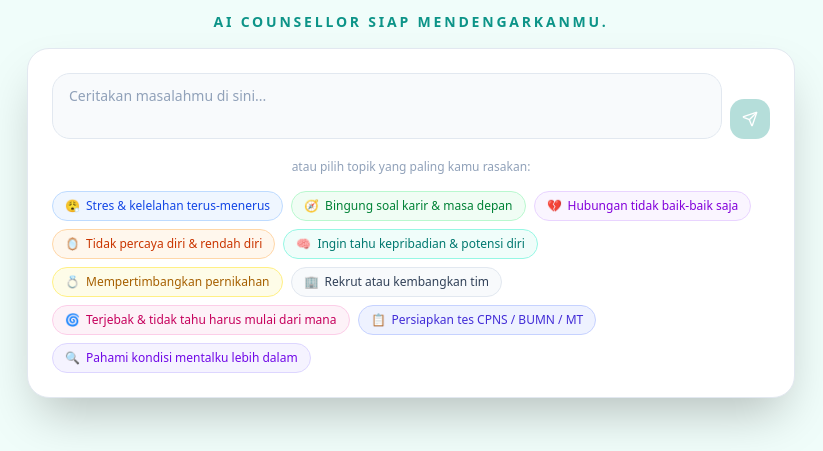
PsikotesDiagnostic › renders follow-up bubbles from API response
Step 1. Click the text "Stres & kelelahan terus-menerus" → {"x": 178, "y": 206}, box [86,198,270,214]
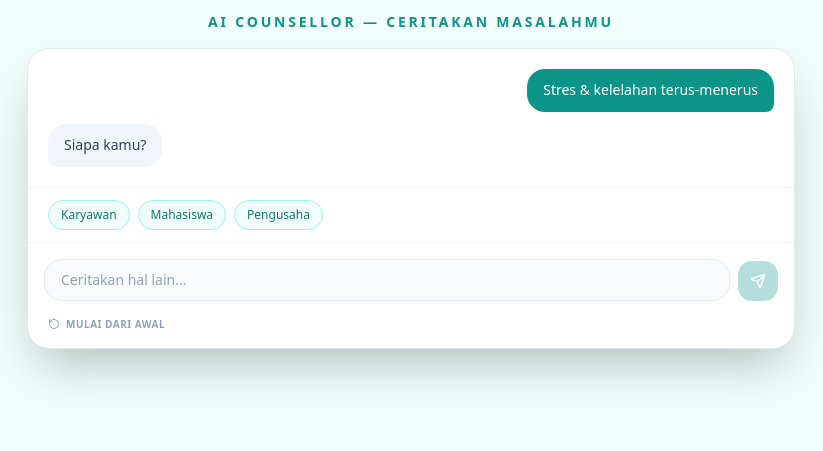
expect the button "Karyawan" is shown: met, box [48,200,130,230]
expect the button "Mahasiswa" is shown: met, box [138,200,226,230]
expect the button "Pengusaha" is shown: met, box [234,200,323,230]
